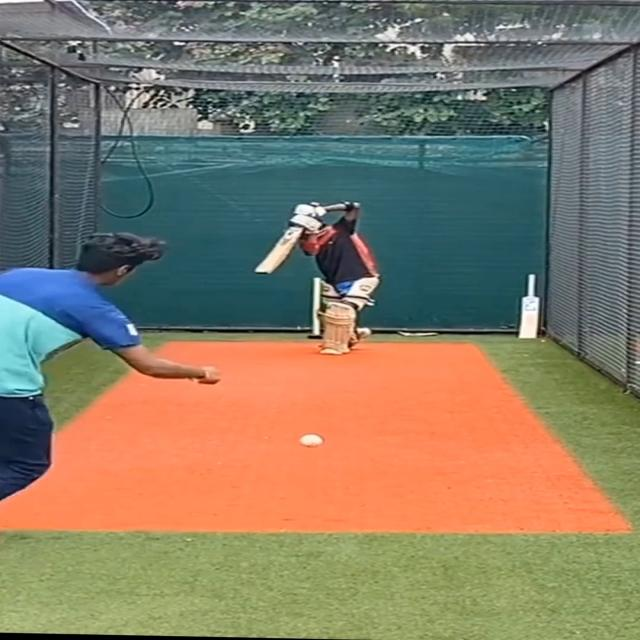ball: (295, 431, 330, 451)
